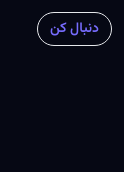
Test: social infrastructure › changes follow state on interaction
The width and height of the screenshot is (124, 172).
Click the button "دنبال کن" at coordinates (74, 29), box left=37, top=12, right=112, bottom=46
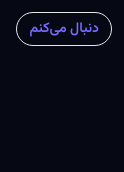
Check: the text "دنبال می‌کنم" is shown, box left=16, top=12, right=112, bottom=46
